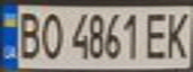1: (121, 9, 142, 61)
4: (66, 9, 90, 60)
6: (103, 10, 124, 60)
8: (87, 10, 106, 60)
B: (12, 8, 45, 61)
E: (142, 9, 172, 61)
K: (160, 8, 193, 60)
O: (36, 9, 66, 61)
